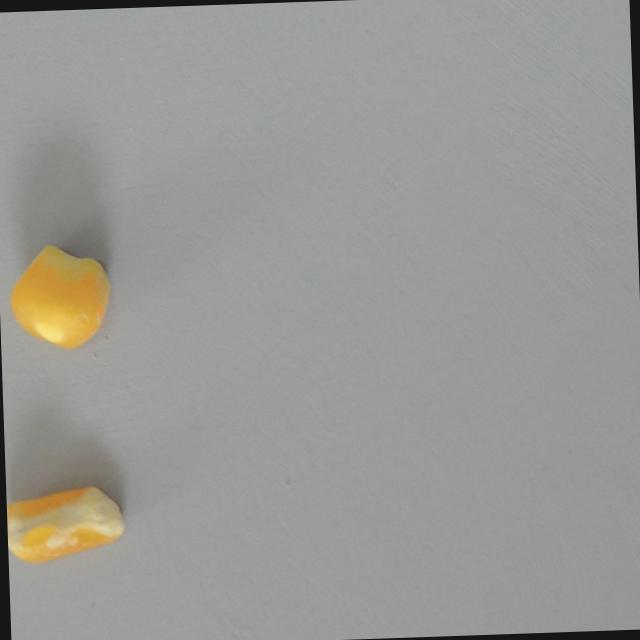dañado: (2, 237, 116, 351)
punto_negro: (6, 480, 128, 564)
